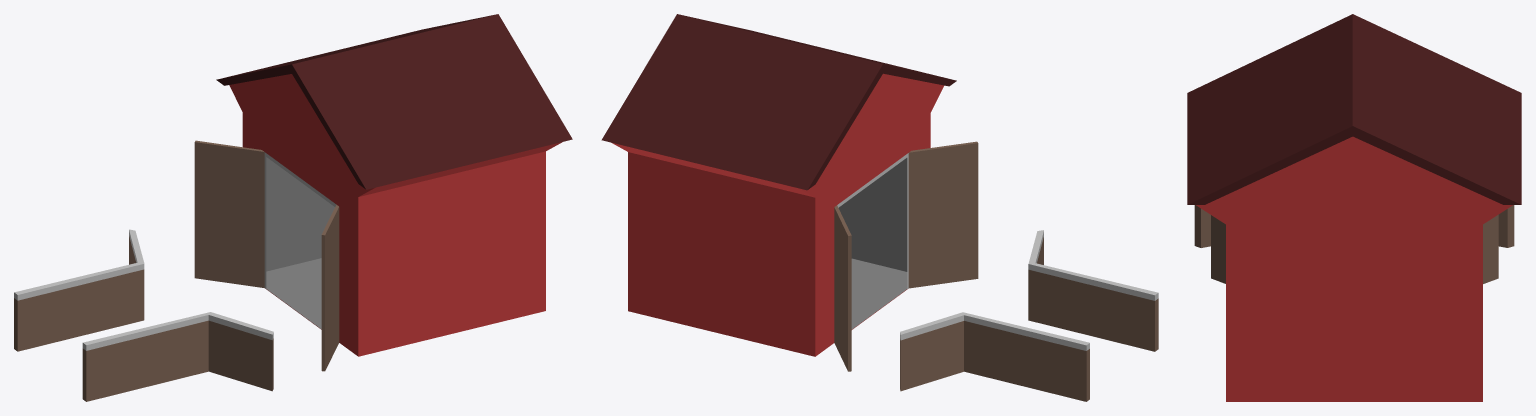
File: start.fbx
3 renders of one model, left to right at view 1: azimuth 30°, elevation 25°; view 2: azimuth 150°, elevation 25°; view 3: azimuth 270°, elevation 25°, orthographic. The views are drawn at different scales.
Parts seen in each view (by area): view 1: Cube, Plane; view 2: Cube, Plane; view 3: Cube, Plane.
Boxes of the visible parts, left/top/right/bottom form: Cube: left=194, top=14, right=572, bottom=371; Plane: left=14, top=229, right=273, bottom=401; Cube: left=601, top=14, right=978, bottom=371; Plane: left=900, top=230, right=1158, bottom=401; Cube: left=1187, top=14, right=1521, bottom=401; Plane: left=1194, top=205, right=1514, bottom=247.
Size of the model in its own units: 358 by 193 by 208.
